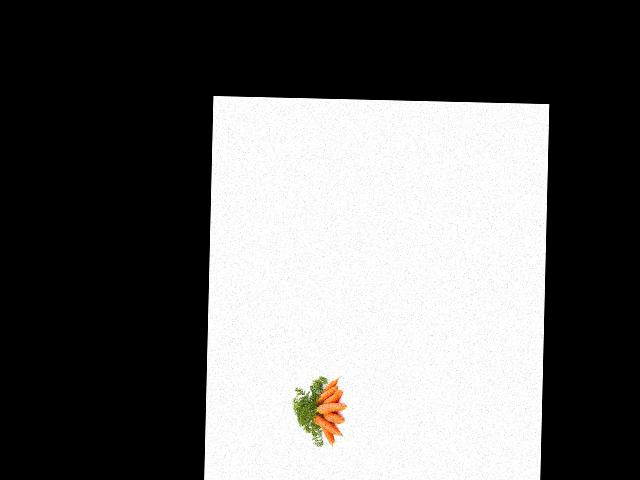carrot: (319, 422, 337, 446)
